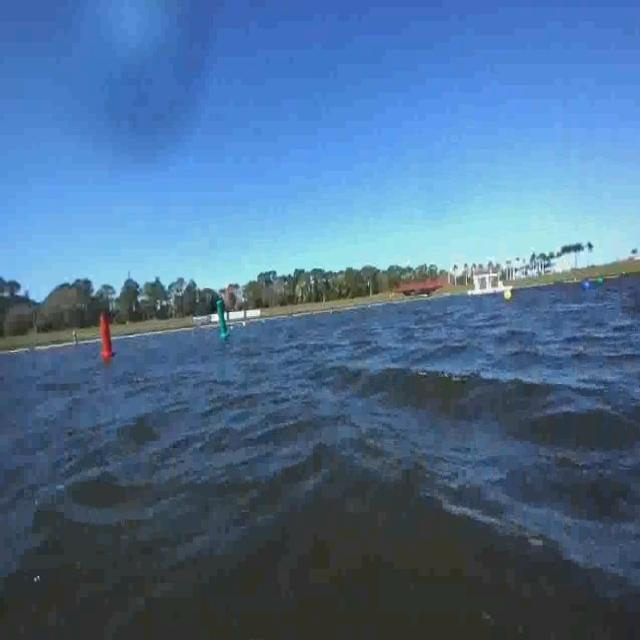green-column-buoy: (212, 291, 234, 343)
red-column-buoy: (92, 306, 118, 390)
